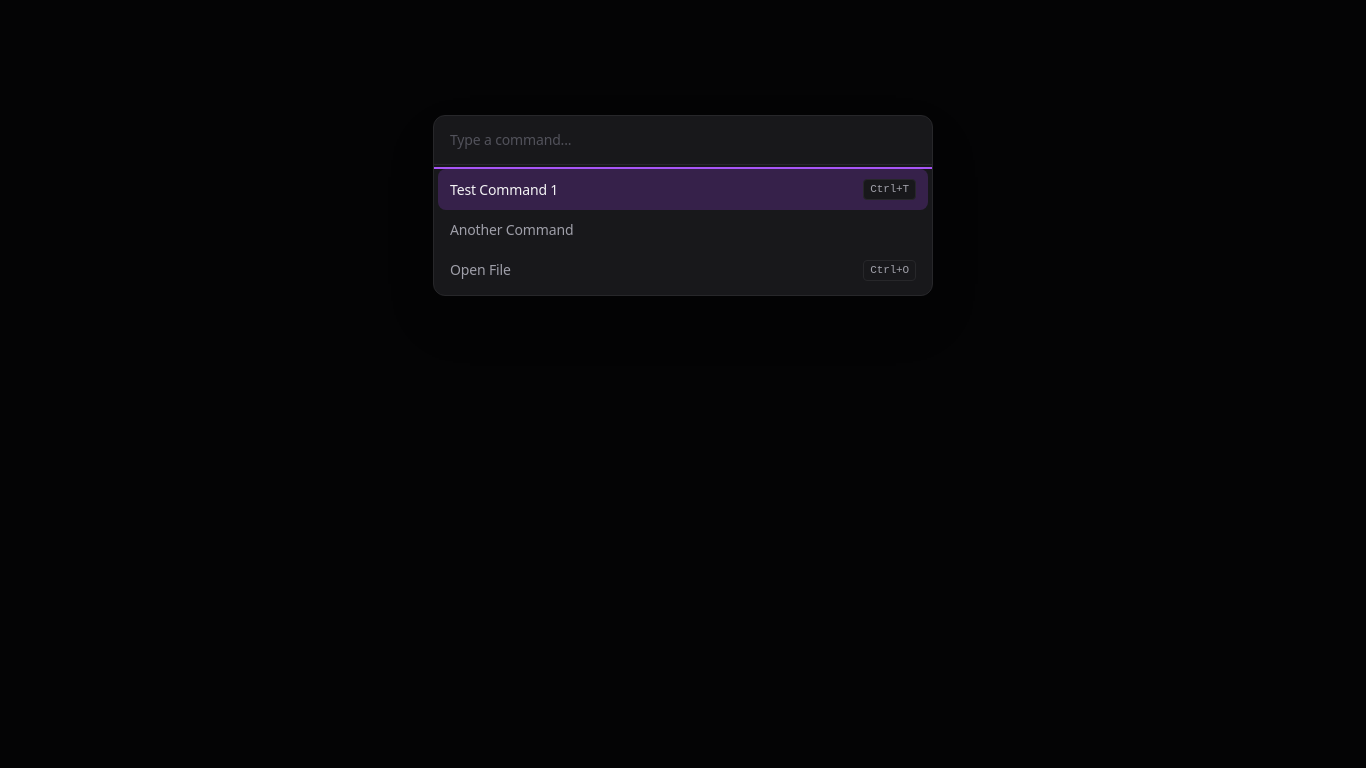
Test case: CommandPalette › shows no matches message when filter returns empty
The width and height of the screenshot is (1366, 768).
Type "xyz123nonexistent" into the field.
click(683, 141); type("xyz123nonexistent")  # box [434,116,932,165]
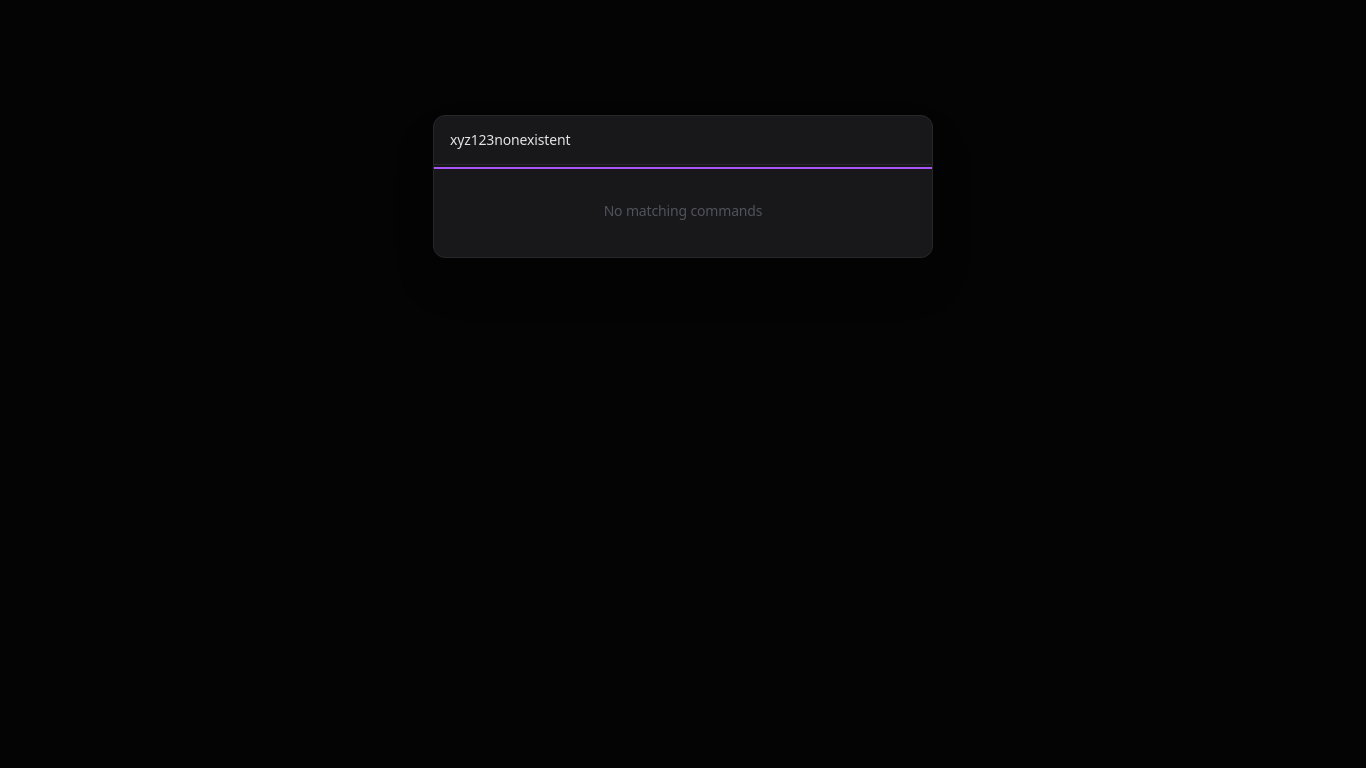
Result: the text "No matching commands" is shown at [604,201,762,220]
